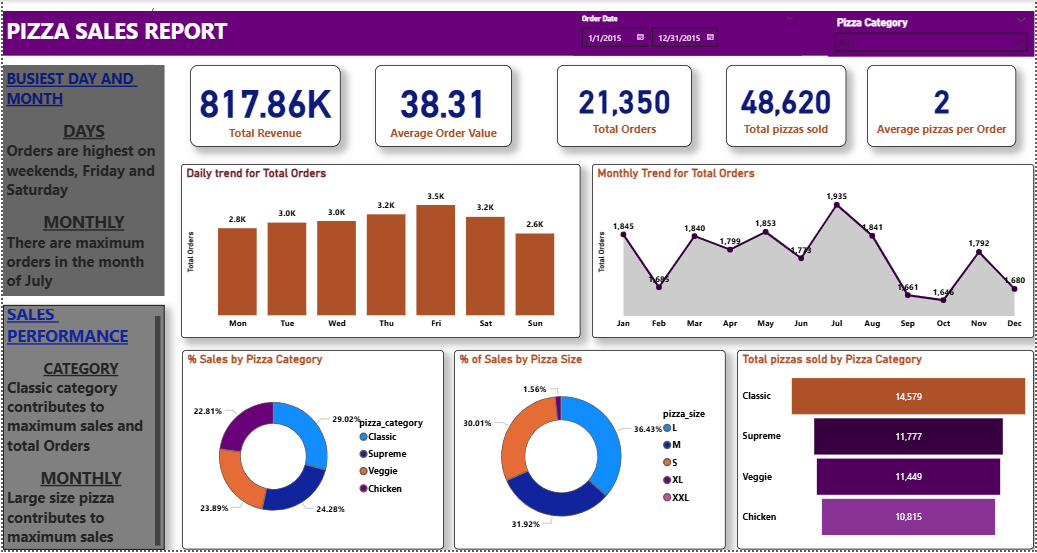

What the dashboard file says about the page in this screenshot:
{"tool":"powerbi","page":{"name":"Sales","canvas":[1500,800],"ordinal":0},"visuals":[{"type":"card","box":[206.6,0,13.4,164.6],"z":0},{"type":"card","fields":{"Values":["pizza_sales.Total Revenue"]},"box":[272.7,94.7,218.8,119.2],"z":1000},{"type":"card","fields":{"Values":["pizza_sales.Average Order Value"]},"box":[540.4,94.7,199.2,119.2],"z":2000},{"type":"card","fields":{"Values":["pizza_sales.Total pizzas sold"]},"box":[1051.4,94.7,174.7,119.2],"z":3000},{"type":"card","fields":{"Values":["pizza_sales.Total Orders"]},"box":[806.5,94.7,195.9,119.2],"z":4000},{"type":"card","fields":{"Values":["pizza_sales.Average pizzas per Order"]},"box":[1257.1,94.7,217.1,119.2],"z":5000},{"type":"clusteredColumnChart","title":"Daily trend for Total  Orders","fields":{"Y":["pizza_sales.Total Orders"],"Category":["pizza_sales.Weekday name"]},"box":[259.6,238.4,581.2,253.1],"z":6000},{"type":"stackedAreaChart","title":"Monthly Trend for Total Orders","fields":{"Y":["pizza_sales.Total Orders"],"Category":["pizza_sales.Monthname"]},"box":[857.1,238.4,643.3,253.1],"z":7000},{"type":"donutChart","title":"% Sales by Pizza Category","fields":{"Y":["pizza_sales.Total Orders"],"Category":["pizza_sales.pizza_category"]},"box":[259.7,509.7,380.6,290.3],"z":8000},{"type":"donutChart","title":"% of Sales by Pizza Size","fields":{"Category":["pizza_sales.pizza_size"],"Y":["pizza_sales.Total Orders"]},"box":[656.5,509.7,395.2,290.3],"z":9000},{"type":"funnel","title":"Total pizzas sold by Pizza Category","fields":{"Y":["pizza_sales.Total pizzas sold"],"Category":["pizza_sales.pizza_category"]},"box":[1067.7,509.7,432.3,290.3],"z":10000},{"type":"textbox","box":[0,16.3,1500.4,65.3],"z":11000},{"type":"textbox","box":[25,238,210,219],"z":12000},{"type":"textbox","box":[0,94.7,235.1,336.3],"z":12001},{"type":"textbox","box":[0,444.1,235.1,355.9],"z":12002},{"type":"slicer","fields":{"Values":["pizza_sales.pizza_category"]},"box":[1200,18,300.4,65.3],"z":12003},{"type":"slicer","fields":{"Values":["pizza_sales.order_date"]},"box":[829.4,16.3,333.1,65.3],"z":12004}]}

Visuals, with their boxes in screenshot pixels (x1, y1, x2, y2), scaled from the page's 1500x800 canvas onto the 1037x553 screenshot:
card: l=143, t=0, r=152, b=114
card - pizza_sales.Total Revenue: l=189, t=65, r=340, b=148
card - pizza_sales.Average Order Value: l=374, t=65, r=511, b=148
card - pizza_sales.Total pizzas sold: l=727, t=65, r=848, b=148
card - pizza_sales.Total Orders: l=558, t=65, r=693, b=148
card - pizza_sales.Average pizzas per Order: l=869, t=65, r=1019, b=148
"Daily trend for Total  Orders" clusteredColumnChart: l=179, t=165, r=581, b=340
"Monthly Trend for Total Orders" stackedAreaChart: l=593, t=165, r=1036, b=340
"% Sales by Pizza Category" donutChart: l=180, t=352, r=443, b=552
"% of Sales by Pizza Size" donutChart: l=454, t=352, r=727, b=552
"Total pizzas sold by Pizza Category" funnel: l=738, t=352, r=1036, b=552
textbox: l=0, t=11, r=1036, b=56
textbox: l=17, t=165, r=162, b=316
textbox: l=0, t=65, r=163, b=298
textbox: l=0, t=307, r=163, b=552
slicer - pizza_sales.pizza_category: l=830, t=12, r=1036, b=58
slicer - pizza_sales.order_date: l=573, t=11, r=804, b=56
